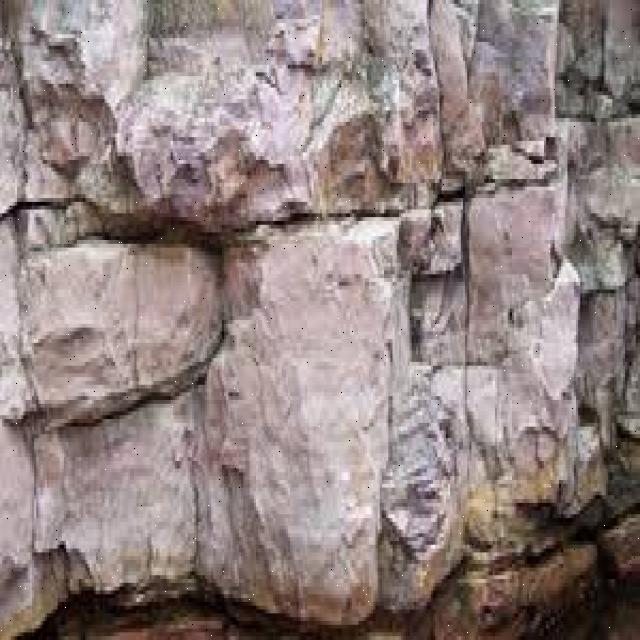Metamorphic: (2, 4, 634, 586)
